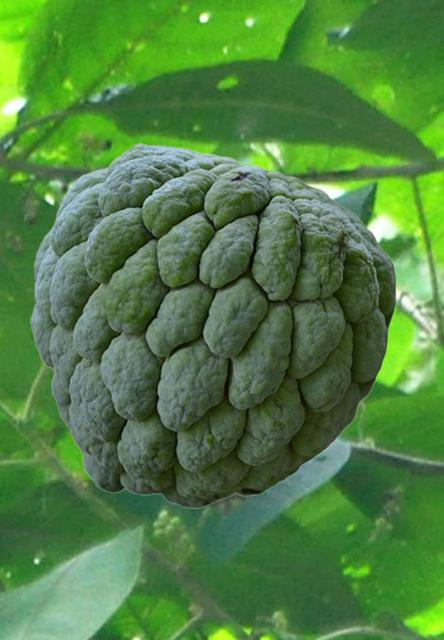atis: (30, 143, 396, 507)
